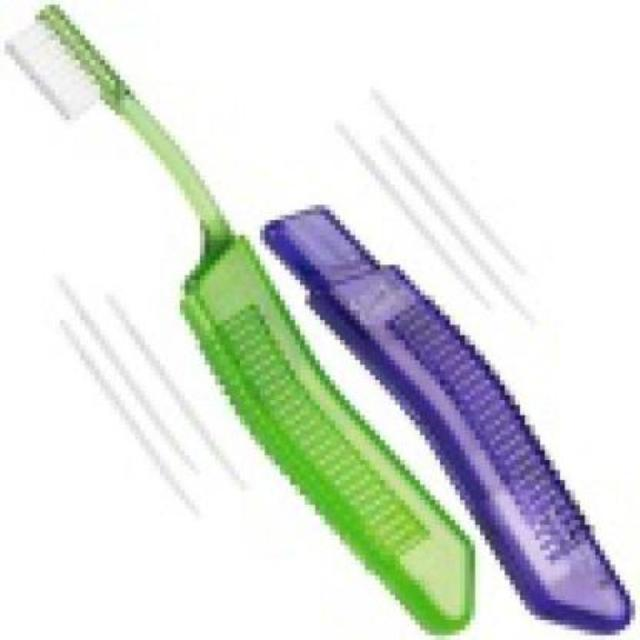toothbrush: (0, 1, 620, 636)
